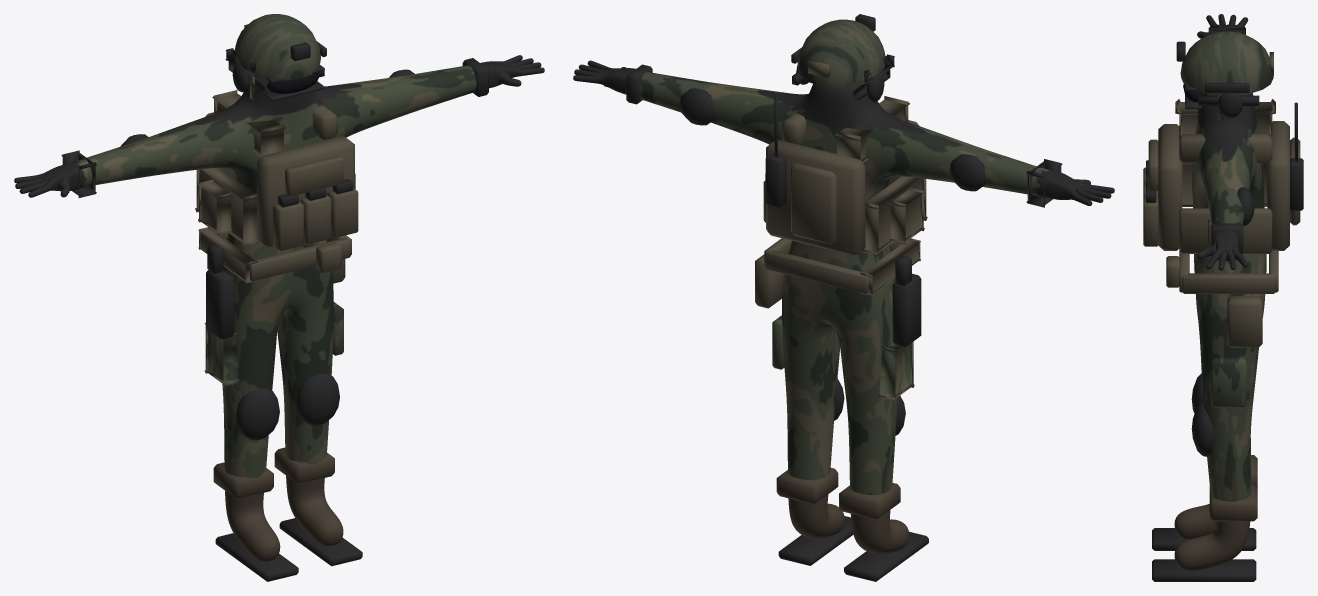
Rendered from soldier_tpose.fbx.
3 renders of one model, left to right at view 1: azimuth 30°, elevation 25°; view 2: azimuth 150°, elevation 25°; view 3: azimuth 270°, elevation 25°, orthographic. The views are drawn at different scales.
Parts seen in each view (by area): view 1: soldier; view 2: soldier; view 3: soldier.
Boxes of the visible parts, x1,y1,x2,y2 form: soldier: (14,14,544,581); soldier: (573,14,1114,581); soldier: (1143,14,1303,581).
Size of the model in its own units: 1.87 by 1.8 by 0.5.
1 material, 1 textured.
